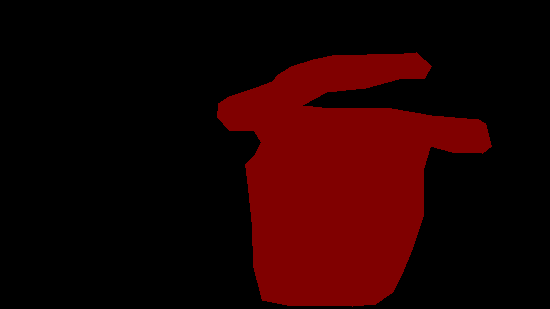fire: (217, 52, 491, 306)
